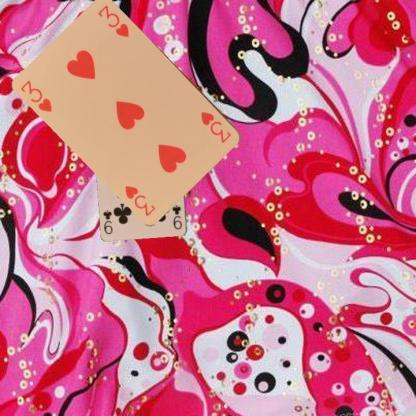3h: (198, 108, 233, 144), (18, 78, 54, 113)
9c: (170, 202, 184, 231)
